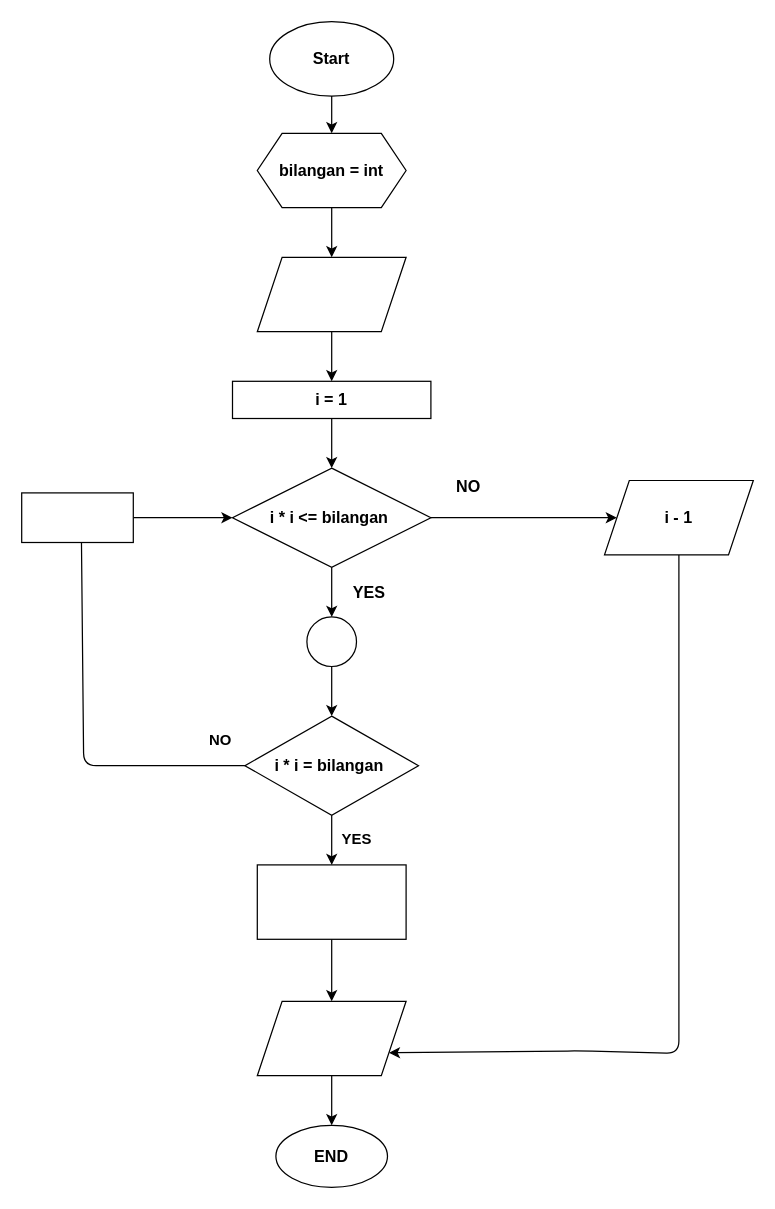
Some shapes in this 775 by 1209 pixel diagram are drawn without their labels. The box of each missing label's shape, as (x1, y1, x2, y2) in pixels:
i ++: (20, 492, 133, 542)
input bilangan: (256, 256, 406, 332)
print i: (256, 1000, 406, 1076)
return i: (256, 864, 406, 939)
